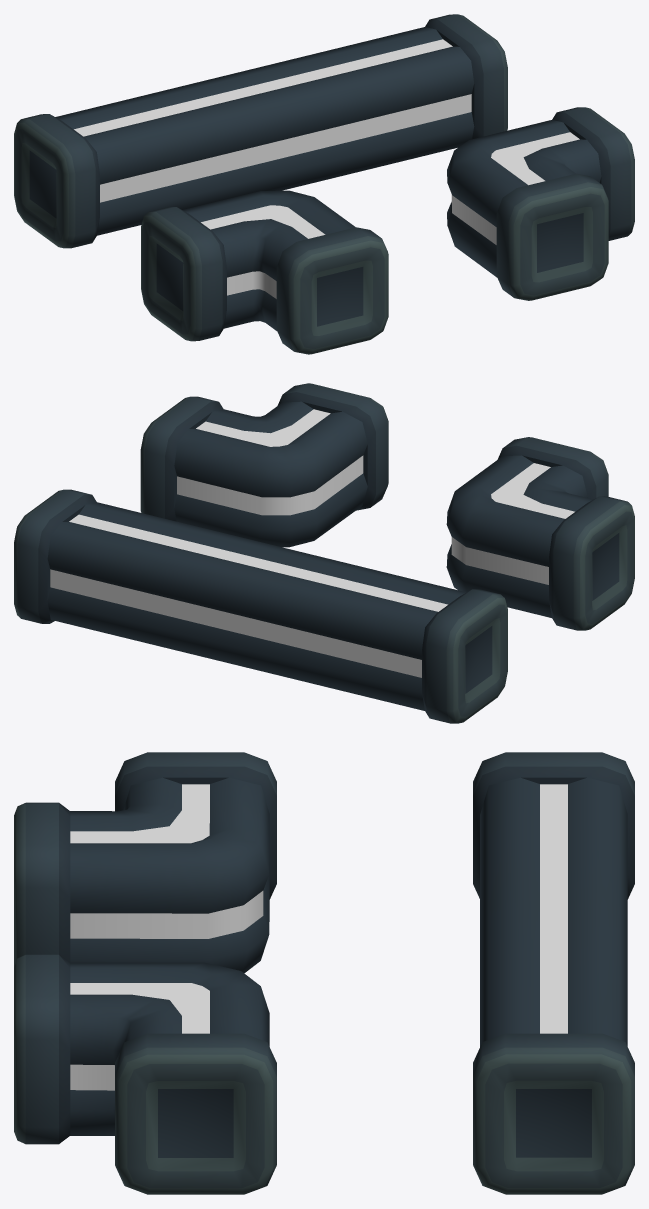
Rendered from Track_Horizontal_Gold_T.fbx.
3 views of the same model, one above another, from view 1: azimuth 30°, elevation 25°; view 2: azimuth 150°, elevation 25°; view 3: azimuth 270°, elevation 25° (orthographic). The views are drawn at different scales.
Parts seen in each view (by area): view 1: Track_Horizontal_Gold_T_LOD0; view 2: Track_Horizontal_Gold_T_LOD0; view 3: Track_Horizontal_Gold_T_LOD0.
Part boxes in pixels (x1=…): Track_Horizontal_Gold_T_LOD0: x1=14, y1=14, x2=634, y2=354; Track_Horizontal_Gold_T_LOD0: x1=14, y1=383, x2=634, y2=723; Track_Horizontal_Gold_T_LOD0: x1=14, y1=752, x2=634, y2=1194.
Size of what is drawn, in the model's own units: 1.01 by 0.2263 by 0.8673.
